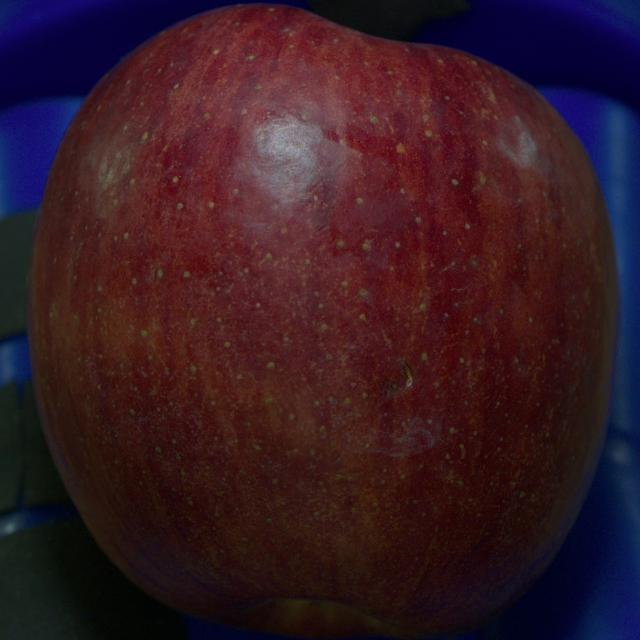apple: (28, 5, 618, 637)
scratch: (404, 364, 412, 387)
